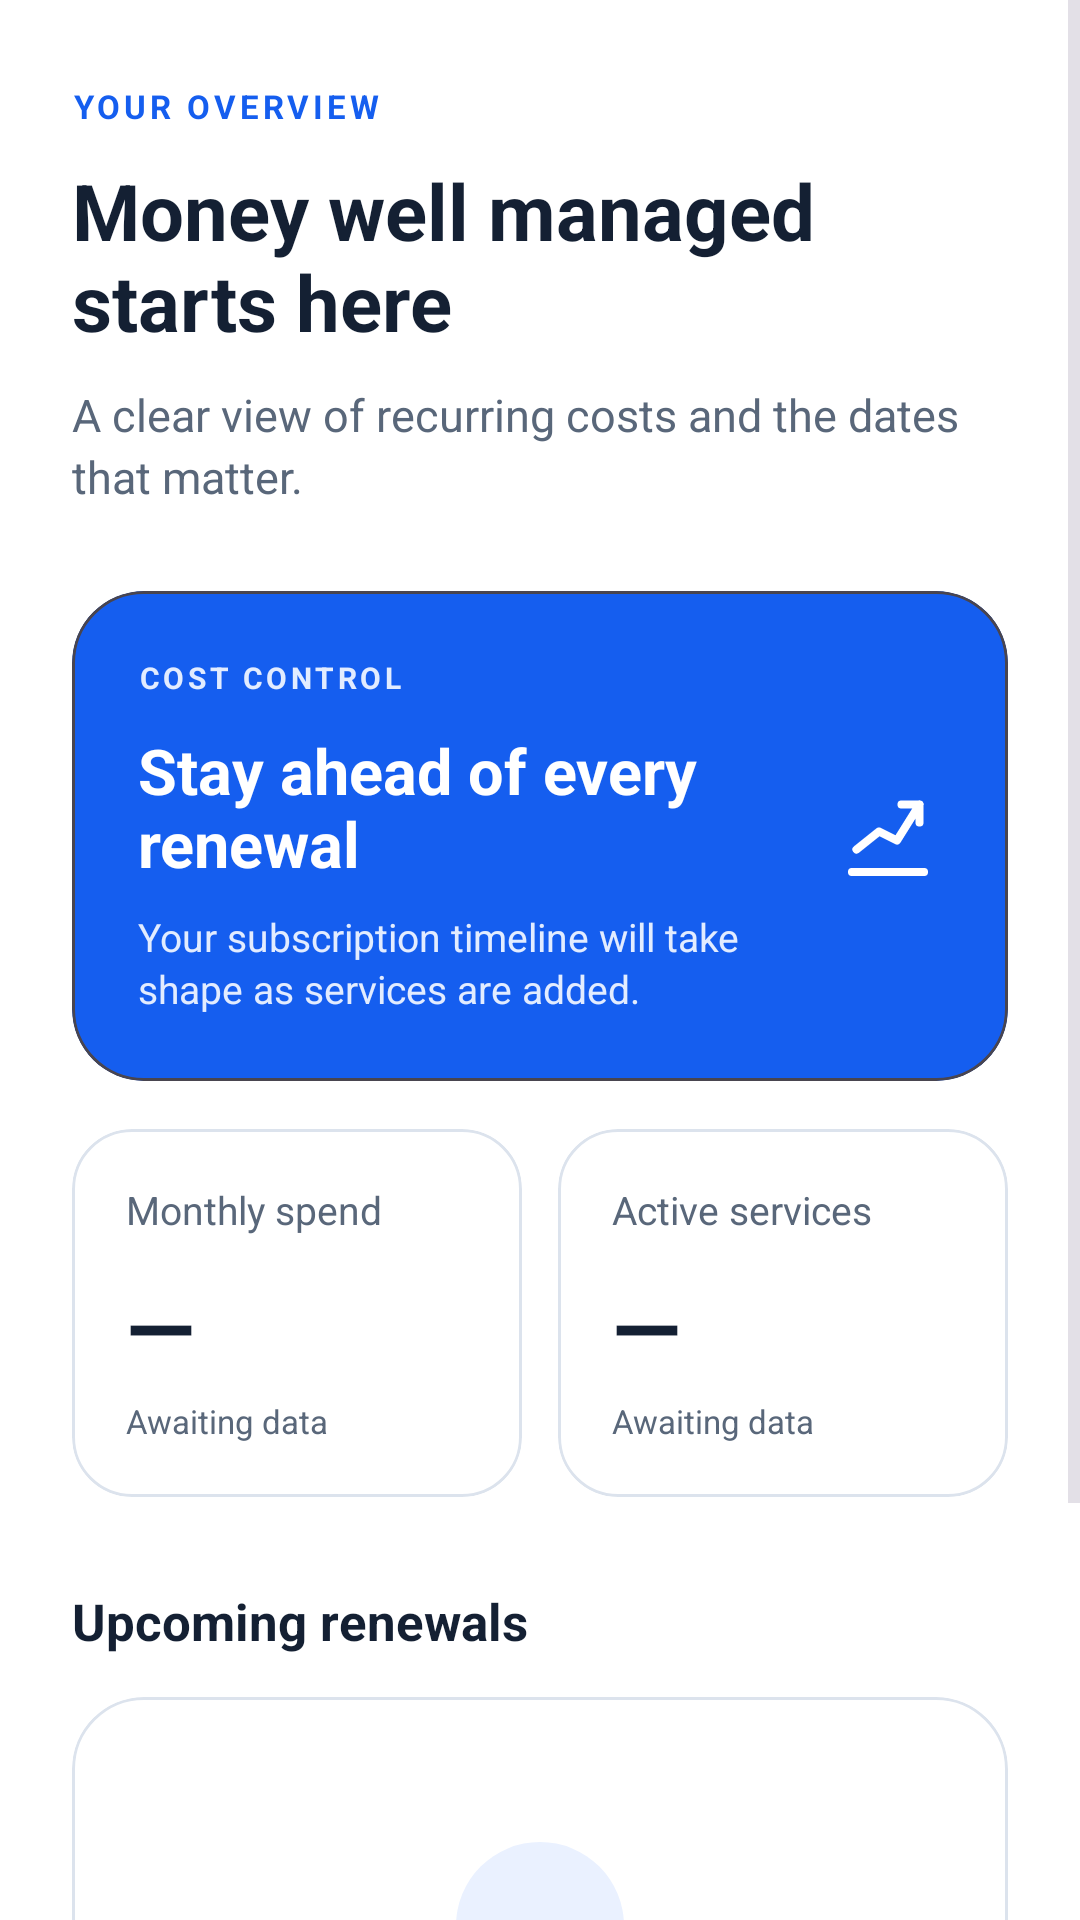

Where icons sit on this 1080*1920 app screen, as (x1, y1, x2, y2):
insights: (848, 800, 928, 876)
